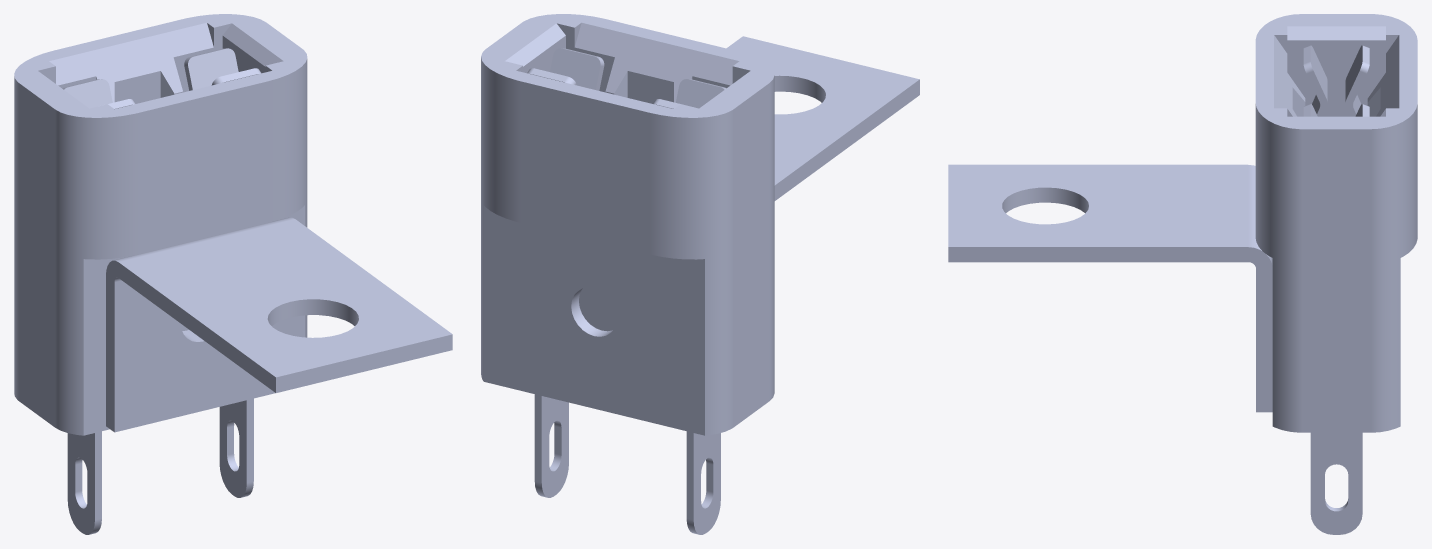
File: Lamp Socket 555 (077-5030-00).fbx
3 renders of one model, left to right at view 1: azimuth 30°, elevation 25°; view 2: azimuth 150°, elevation 25°; view 3: azimuth 270°, elevation 25°, orthographic. The views are drawn at different scales.
Visible parts, largest first — view 1: 555 Lamp Socket, 555 mtg bkt 00, 555 Lamp Socket Leads (×2); view 2: 555 Lamp Socket, 555 mtg bkt 00, 555 Lamp Socket Leads (×2); view 3: 555 Lamp Socket, 555 mtg bkt 00, 555 Lamp Socket Leads (×2).
Part boxes in pixels (x1,y1,x2,y2): 555 Lamp Socket: (14, 14, 307, 435); 555 mtg bkt 00: (106, 217, 452, 432); 555 Lamp Socket Leads (×2): (62, 48, 260, 534); 555 Lamp Socket: (481, 14, 774, 435); 555 mtg bkt 00: (726, 36, 919, 200); 555 Lamp Socket Leads (×2): (527, 48, 726, 534); 555 Lamp Socket: (1255, 14, 1417, 432); 555 mtg bkt 00: (948, 164, 1272, 412); 555 Lamp Socket Leads (×2): (1303, 45, 1369, 534).
Bounding box in the file's own units: 1.33 × 2.3 × 2.3.
